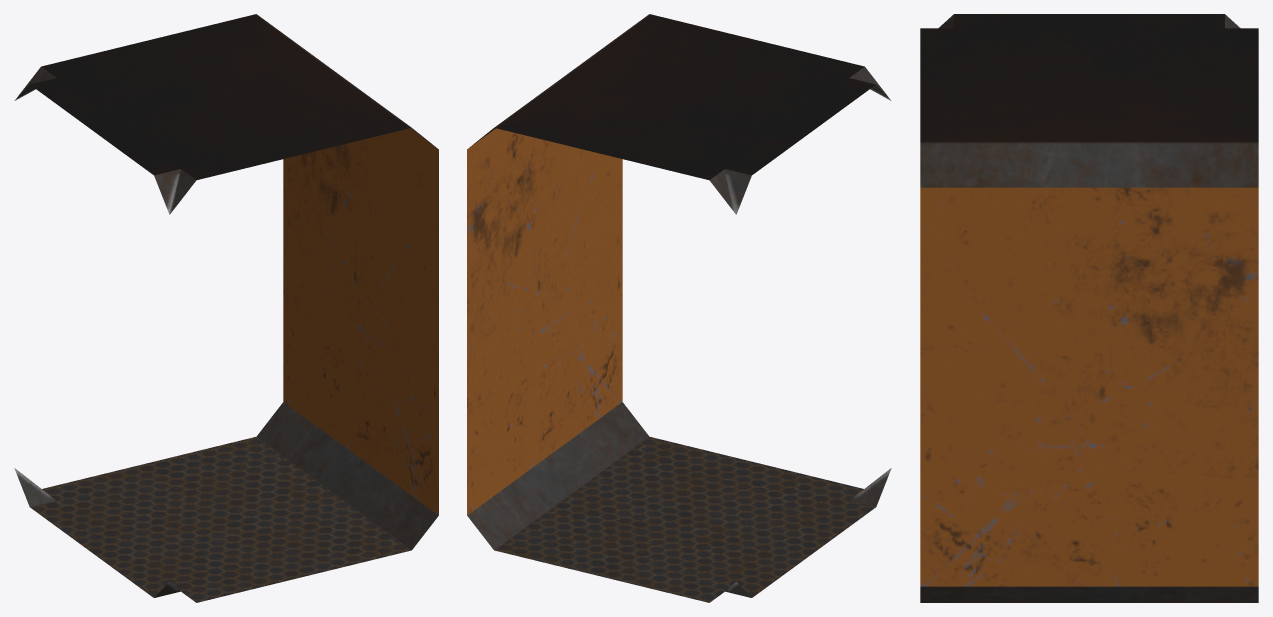
File: FloorTCrossing.fbx
The picture shows the model from 3 angles, left to right: view 1: azimuth 30°, elevation 25°; view 2: azimuth 150°, elevation 25°; view 3: azimuth 270°, elevation 25°; orthographic projection. The views are drawn at different scales.
Visible parts, largest first — view 1: FloorTCrossing; view 2: FloorTCrossing; view 3: FloorTCrossing.
Part boxes in pixels (x1,y1,x2,y2): FloorTCrossing: [14, 14, 438, 602]; FloorTCrossing: [467, 14, 891, 602]; FloorTCrossing: [920, 14, 1258, 602].
Bounding box in the file's own units: 200 × 300 × 200.
Materials: 1 (1 with a texture image).
